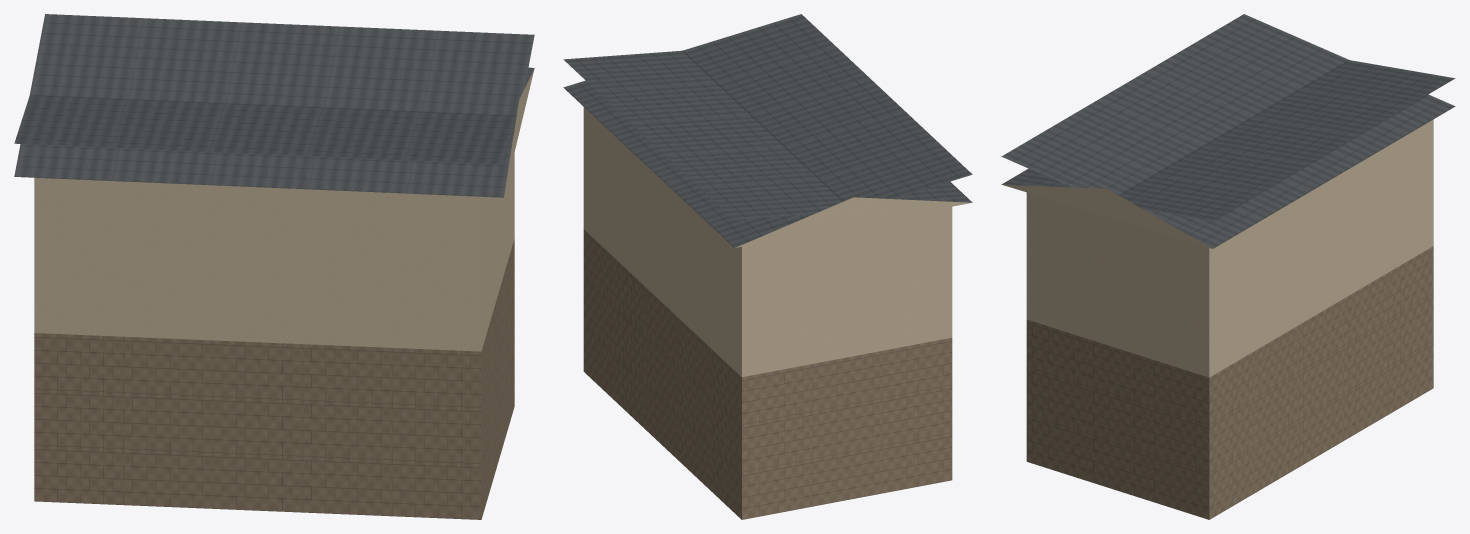
File: bld_c26_19_570.gltf
The picture shows the model from 3 angles, left to right: view 1: azimuth 30°, elevation 25°; view 2: azimuth 150°, elevation 25°; view 3: azimuth 270°, elevation 25°; orthographic projection. The views are drawn at different scales.
Parts seen in each view (by area): view 1: bld_c26_19_570; view 2: bld_c26_19_570; view 3: bld_c26_19_570.
Part boxes in pixels (bbox=[...]): bld_c26_19_570: bbox=[14, 14, 534, 519]; bld_c26_19_570: bbox=[563, 14, 972, 519]; bld_c26_19_570: bbox=[1001, 14, 1455, 519].
Size of the model in its own units: 15.85 by 11 by 14.7.
4 materials, 4 textured.
